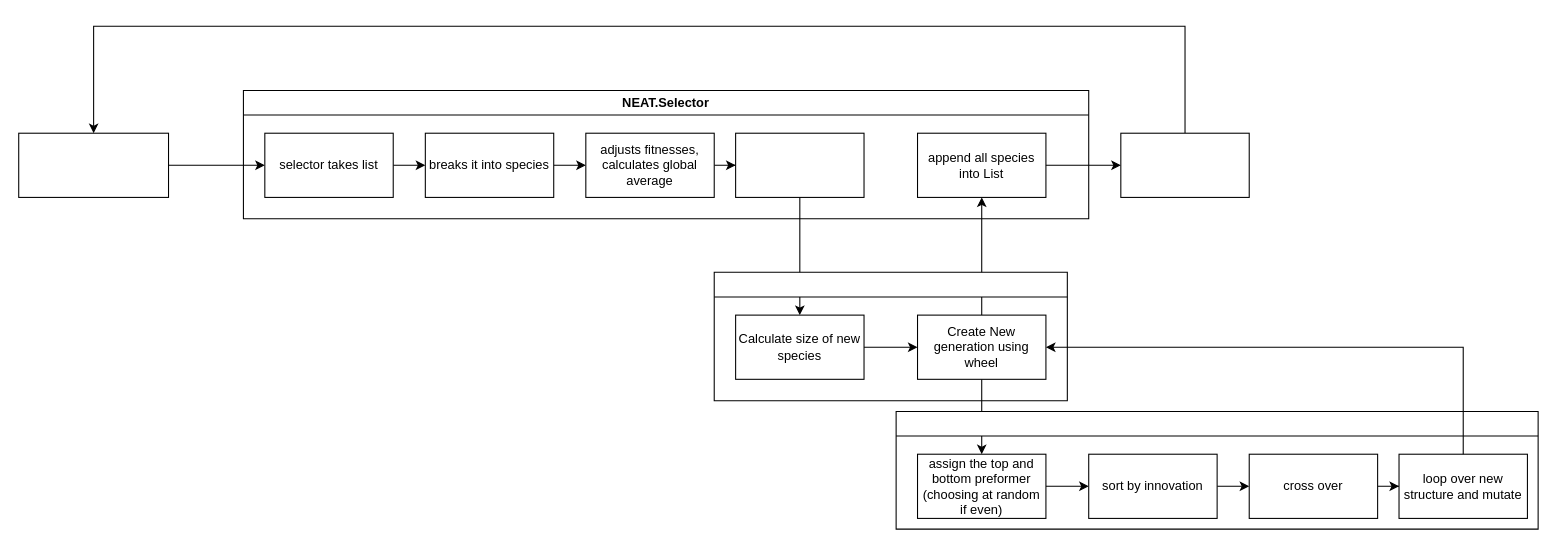
Some shapes in this 1557 by 548 pixel diagram are drawn without their labels. The centre of each missing label's shape, as x and y in pixels:
"calls create new generation on each species" belongs at [799,164].
"List<NeuralNetworks> recives a population value" belongs at [93,164].
"NEAT.NeuralNetwork" belongs at [1216,469].
"NEAT.Species" belongs at [890,336].
"Return new generation (species lost)" belongs at [1184,164].
